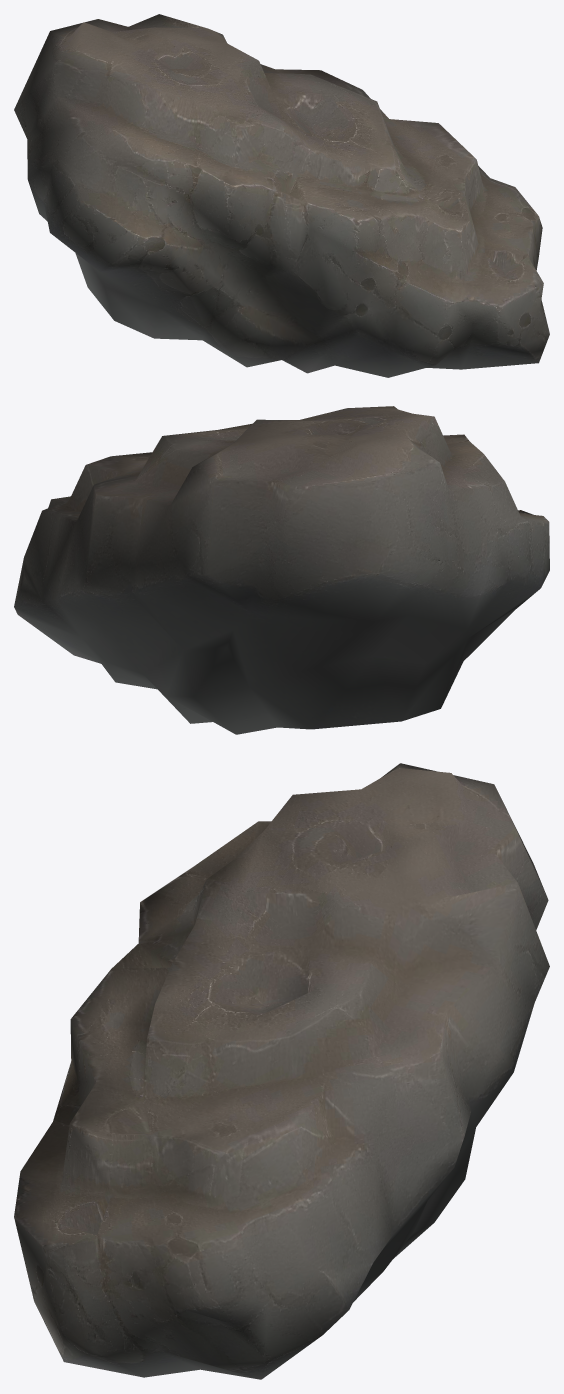
File: legacy_asteroid_04.glb
3 views of the same model, one above another, from view 1: azimuth 30°, elevation 25°; view 2: azimuth 150°, elevation 25°; view 3: azimuth 270°, elevation 25° (orthographic). The views are drawn at different scales.
Visible parts, largest first — view 1: tripo_node_1253caf9-d62e-4e4a-a7fe-8878807a4886; view 2: tripo_node_1253caf9-d62e-4e4a-a7fe-8878807a4886; view 3: tripo_node_1253caf9-d62e-4e4a-a7fe-8878807a4886.
Part boxes in pixels (x1,y1,x2,y2): tripo_node_1253caf9-d62e-4e4a-a7fe-8878807a4886: [14, 14, 549, 377]; tripo_node_1253caf9-d62e-4e4a-a7fe-8878807a4886: [14, 406, 549, 734]; tripo_node_1253caf9-d62e-4e4a-a7fe-8878807a4886: [14, 763, 549, 1379].
Size of the model in its own units: 0.9803 by 0.6558 by 0.7638.
1 material, 1 textured.
